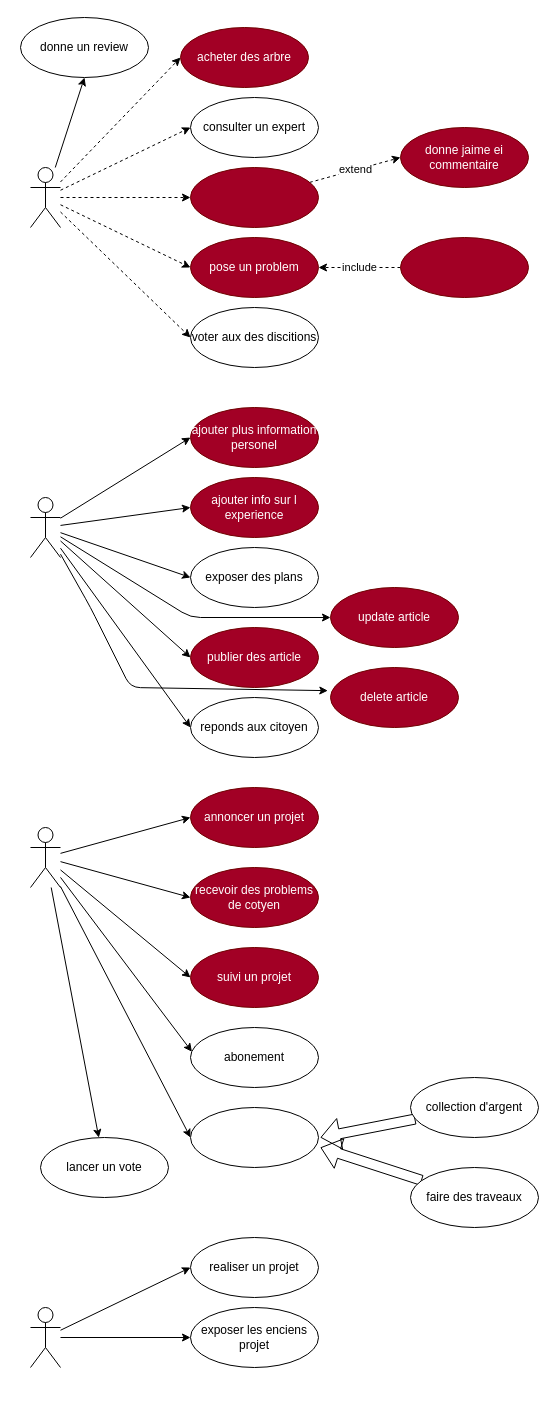
The diagram is 556 pixels wide and 1406 high, and some of its shapes have lost their labels. Each missing label, with the box of its shape:
annoncer des volentariat: (190, 1106, 318, 1168)
consulter des article: (190, 166, 318, 228)
declarer sa position (location): (400, 236, 528, 298)
freelancer: (30, 1306, 60, 1368)
organisme: (30, 826, 60, 888)
specialite: (30, 496, 60, 558)
user: (30, 166, 60, 228)
